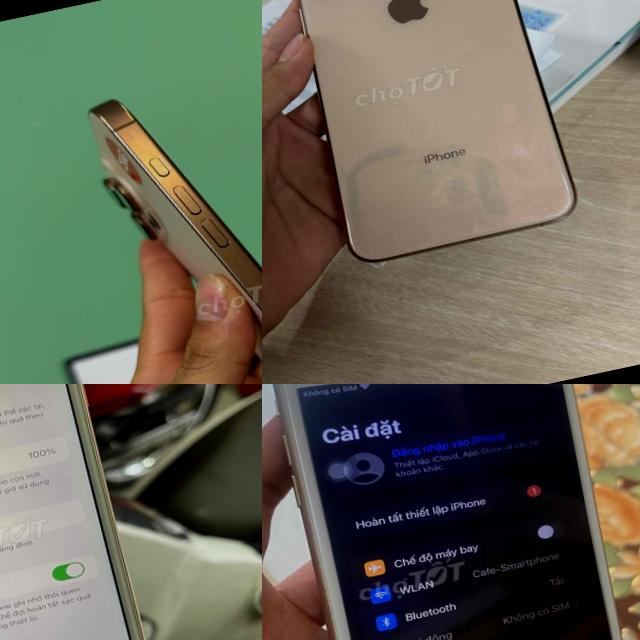scratch: (308, 545, 355, 640), (195, 199, 208, 217)
